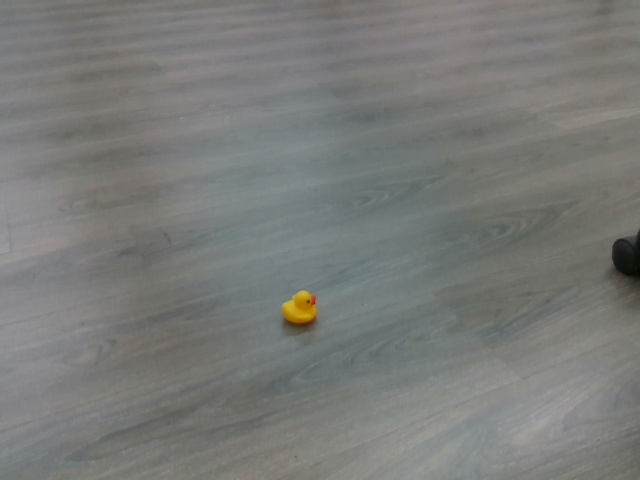duck: (278, 288, 320, 325)
